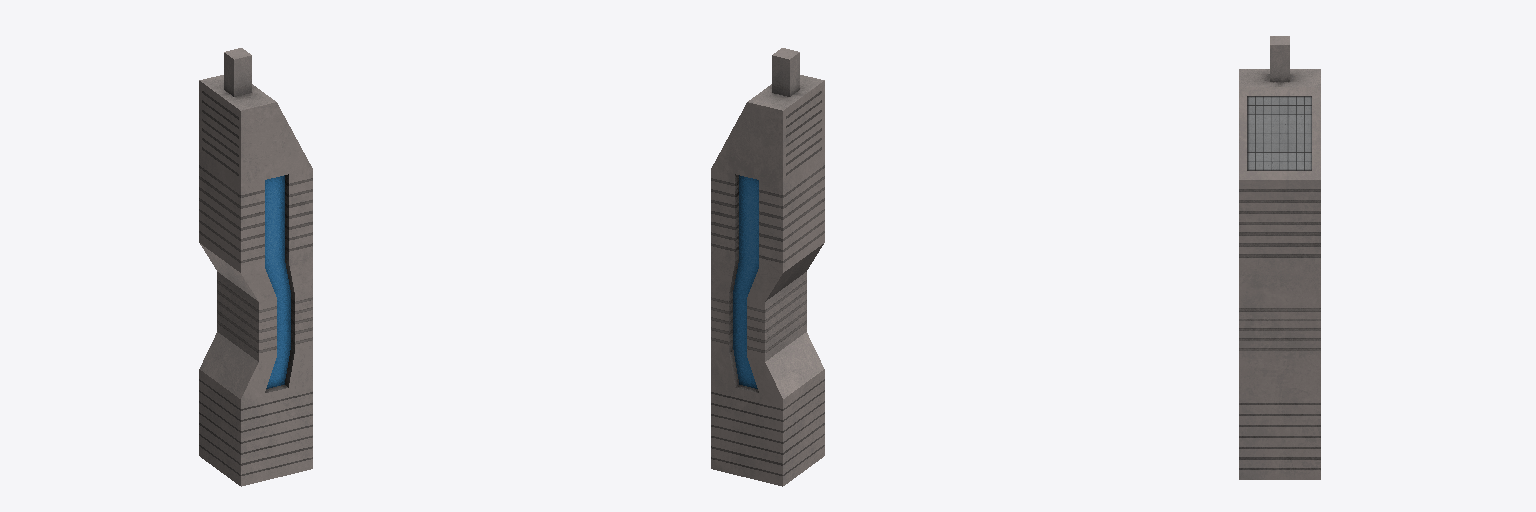
3 views of the same model, side by side, from view 1: azimuth 30°, elevation 25°; view 2: azimuth 150°, elevation 25°; view 3: azimuth 270°, elevation 25° (orthographic).
Parts seen in each view (by area): view 1: sci-building2_Cube.001; view 2: sci-building2_Cube.001; view 3: sci-building2_Cube.001.
Boxes of the visible parts, x1=… form: sci-building2_Cube.001: x1=199, y1=48, x2=312, y2=486; sci-building2_Cube.001: x1=711, y1=48, x2=824, y2=486; sci-building2_Cube.001: x1=1239, y1=36, x2=1320, y2=479.
Size of the model in its own units: 2 by 11 by 2.
1 materials, 1 textured.